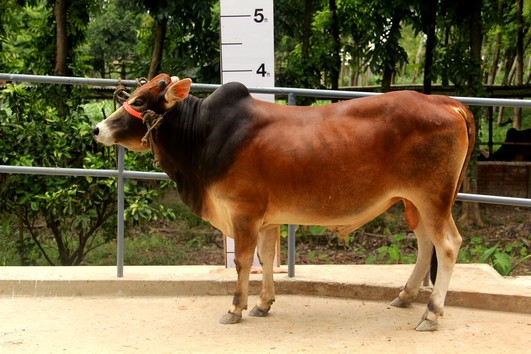cow: (87, 64, 481, 335)
